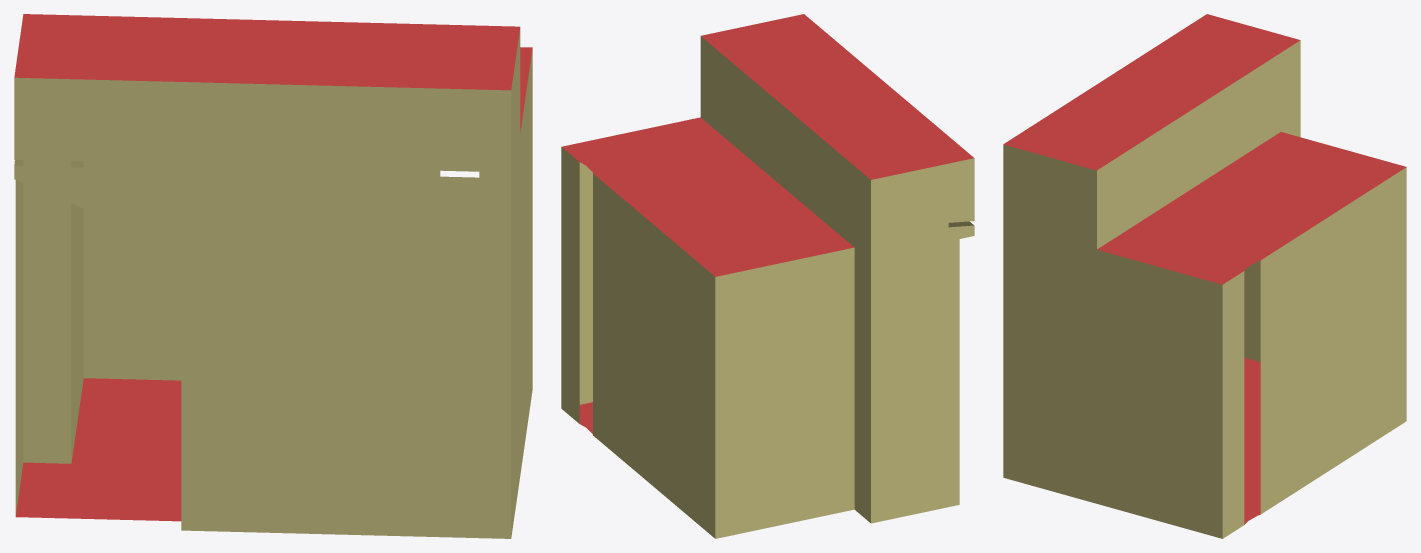
3 views of the same model, side by side, from view 1: azimuth 30°, elevation 25°; view 2: azimuth 150°, elevation 25°; view 3: azimuth 270°, elevation 25° (orthographic). The views are drawn at different scales.
Size of the model in its own units: 9.49 by 8.44 by 7.69.
